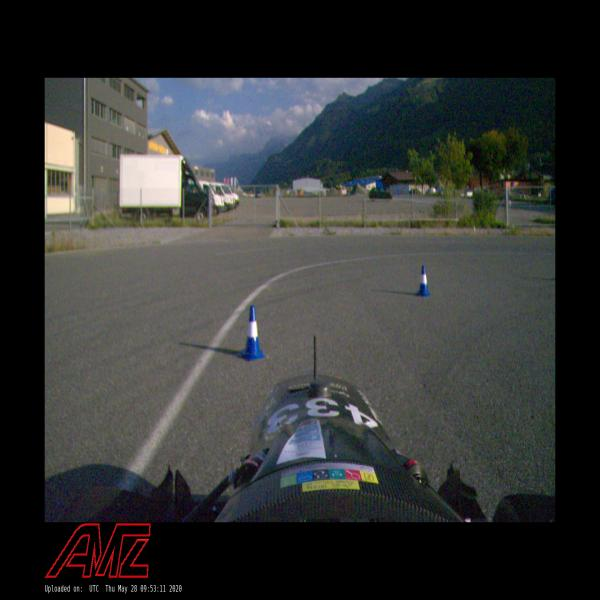blue_cone: (238, 306, 266, 360), (417, 266, 430, 296)
